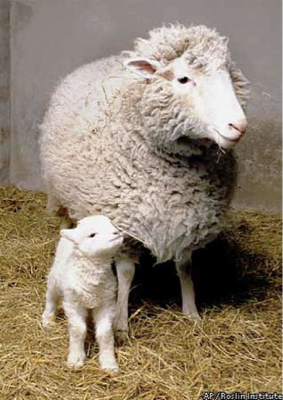koyun: (128, 22, 249, 324), (47, 220, 123, 371)
